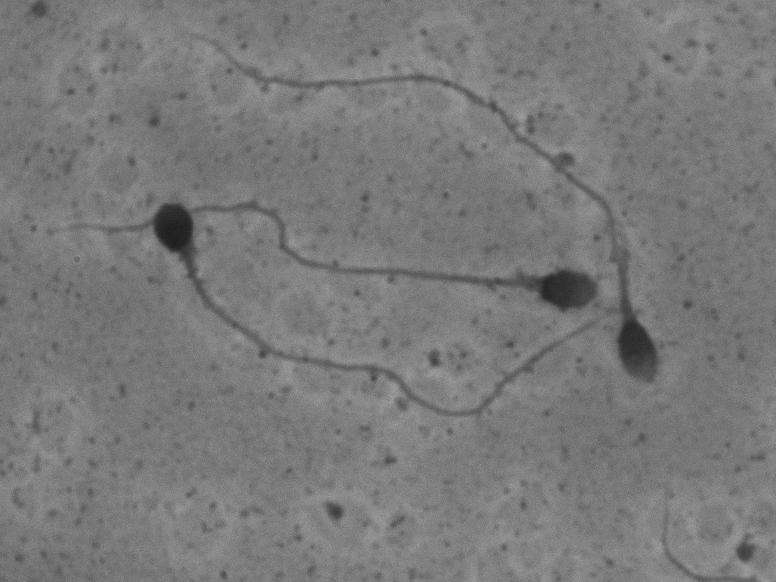Abnormal: (135, 184, 596, 429)
Normal: (181, 23, 670, 390), (44, 187, 608, 320)
